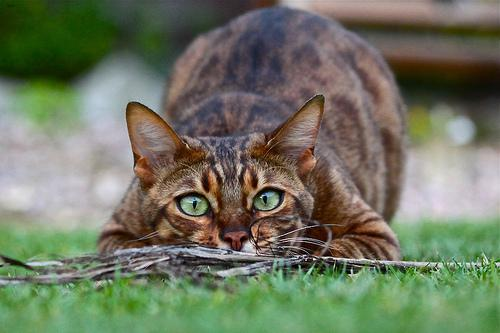cat-Bengal: (124, 92, 323, 253)
